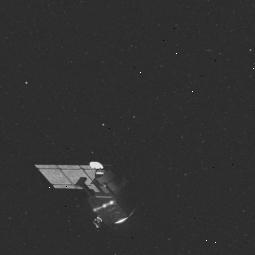earth_observation_sat_1: (52, 154, 145, 230)
